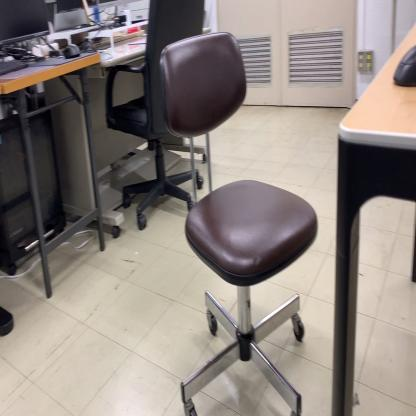chair: (158, 30, 320, 416), (103, 0, 211, 233)
